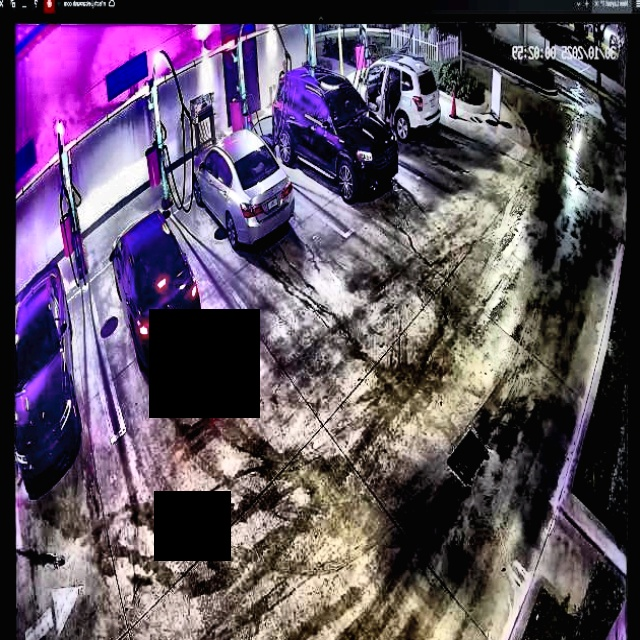Car: (273, 68, 396, 204), (110, 210, 199, 375), (191, 129, 294, 247)
